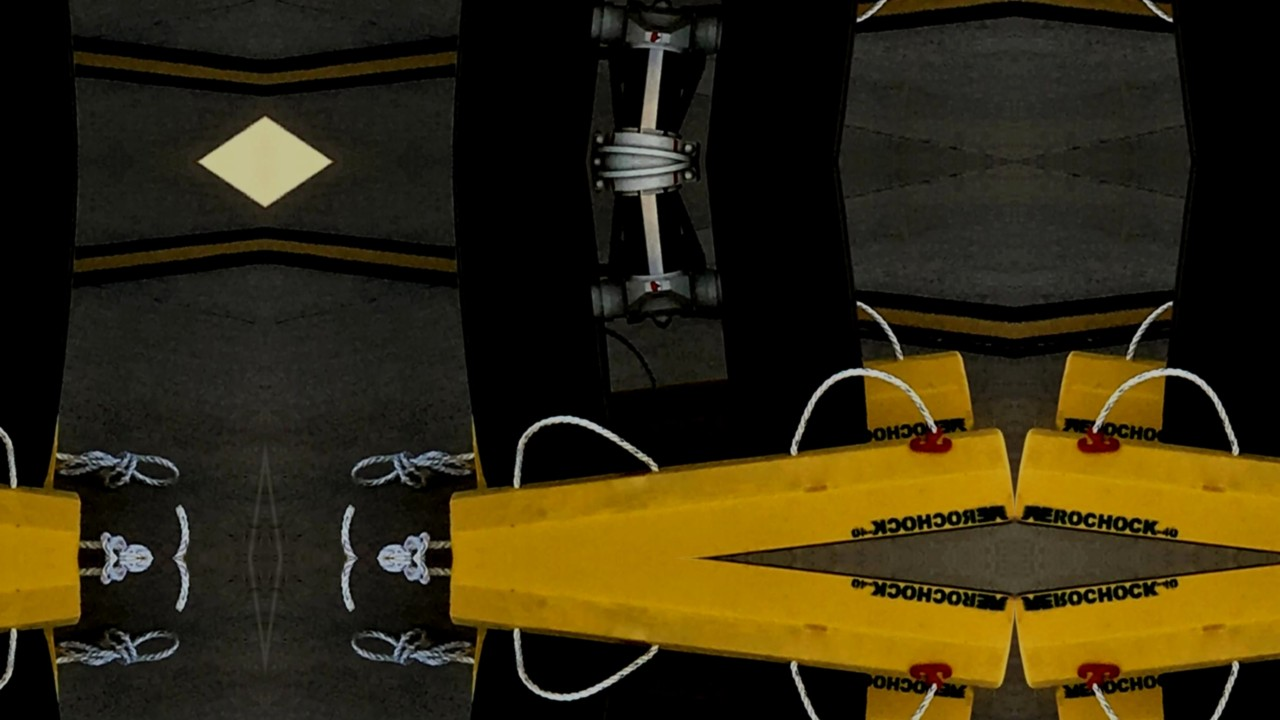chock: (455, 336, 979, 506), (437, 406, 1015, 559), (437, 558, 1015, 711), (455, 611, 979, 720), (1015, 406, 1280, 559), (1015, 558, 1280, 711), (1051, 336, 1280, 506), (1051, 611, 1280, 720), (0, 406, 93, 559), (0, 558, 93, 711), (0, 336, 75, 506)
wheel: (431, 161, 633, 492), (689, 161, 883, 464), (1147, 161, 1280, 464), (0, 161, 99, 492), (431, 0, 633, 162), (689, 0, 883, 162), (1147, 0, 1280, 162), (431, 625, 633, 720), (0, 0, 99, 162), (689, 653, 883, 720), (0, 625, 99, 720), (1147, 653, 1280, 720)
